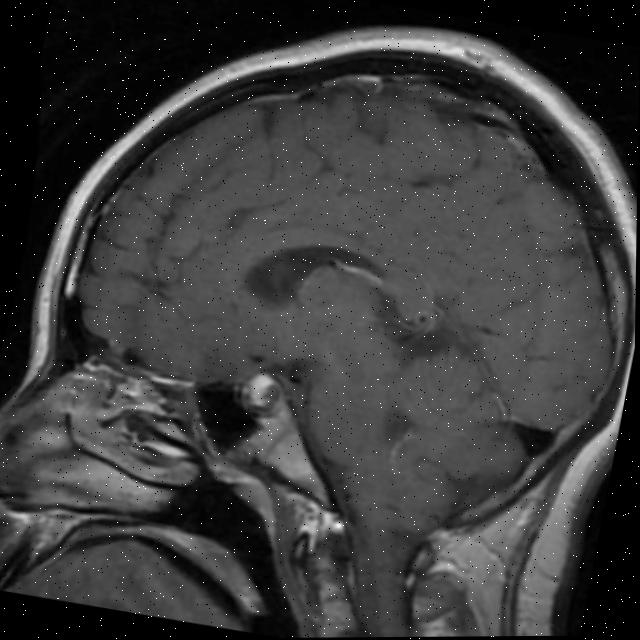Pituitary: (237, 369, 289, 420)
